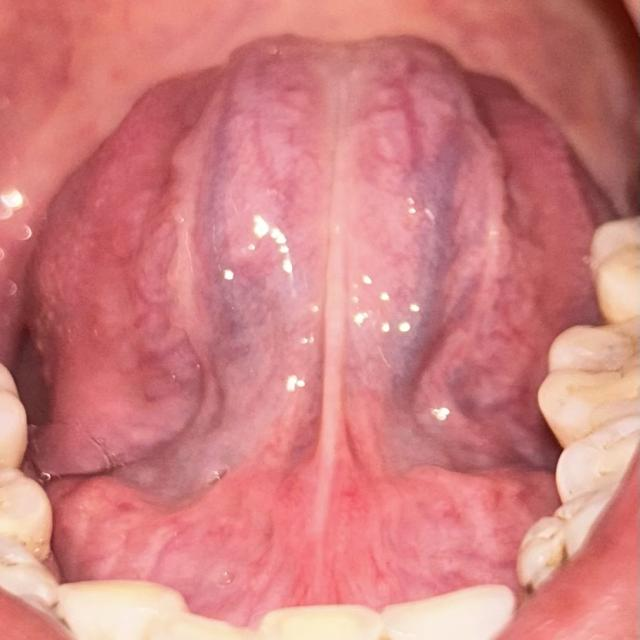processing_area: (1, 0, 639, 623)
